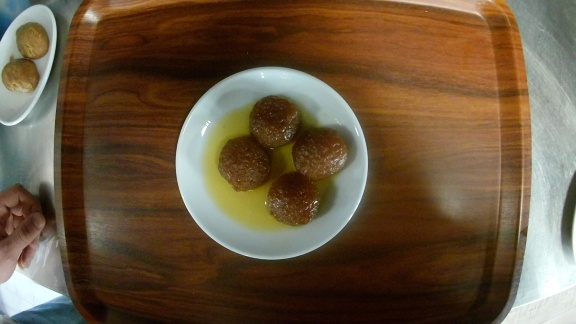kemalpasa: (175, 65, 370, 260)
